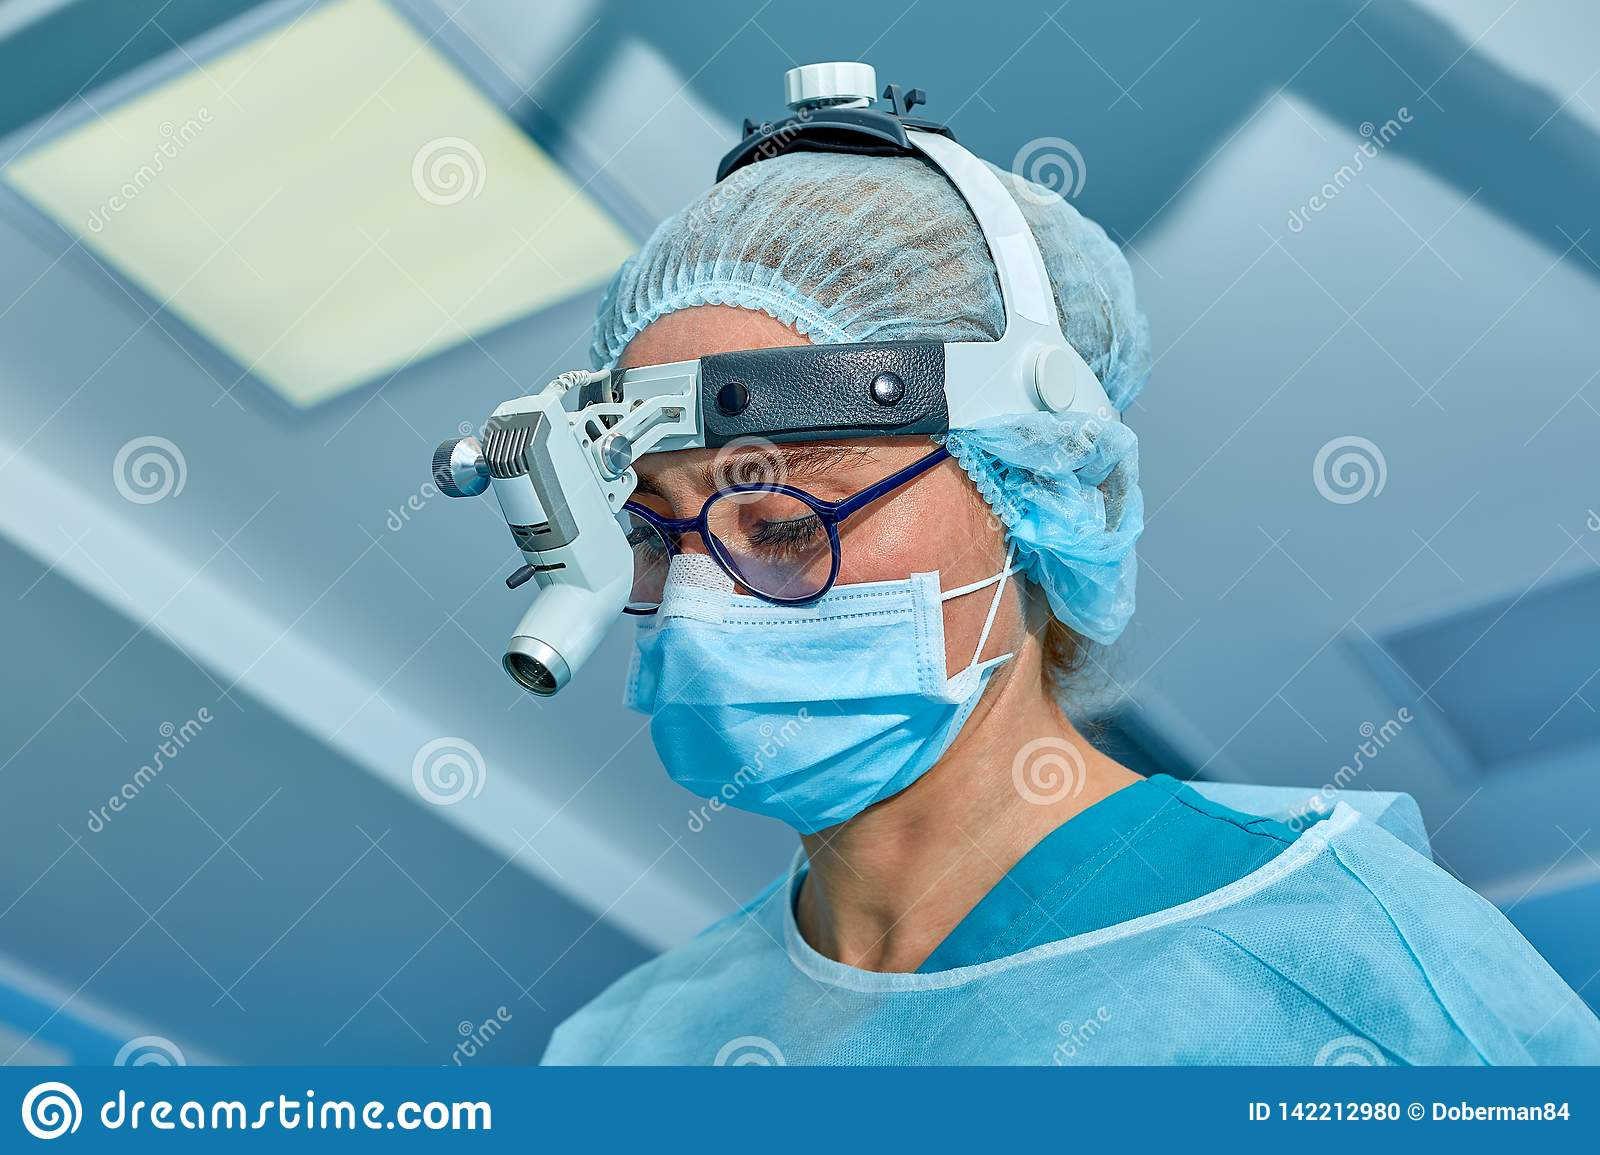mask: (617, 554, 964, 842)
